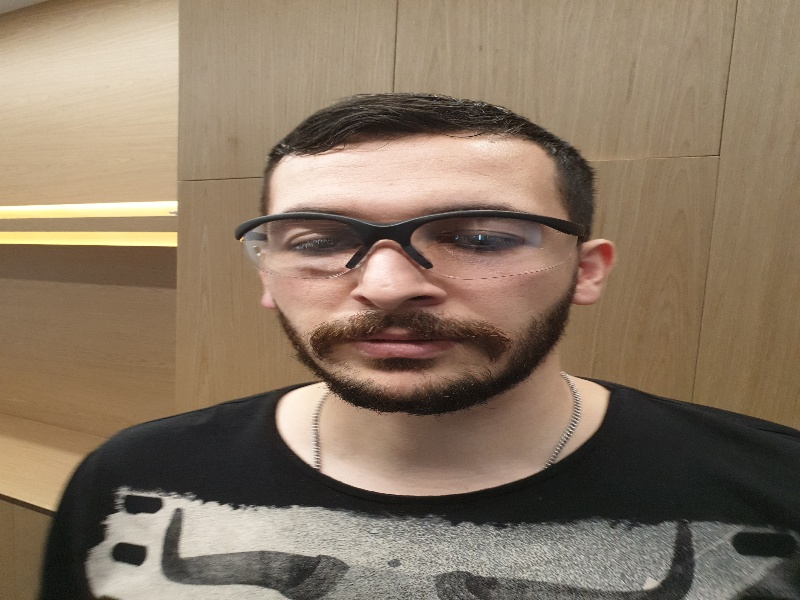Gozluk: (232, 210, 583, 273)
